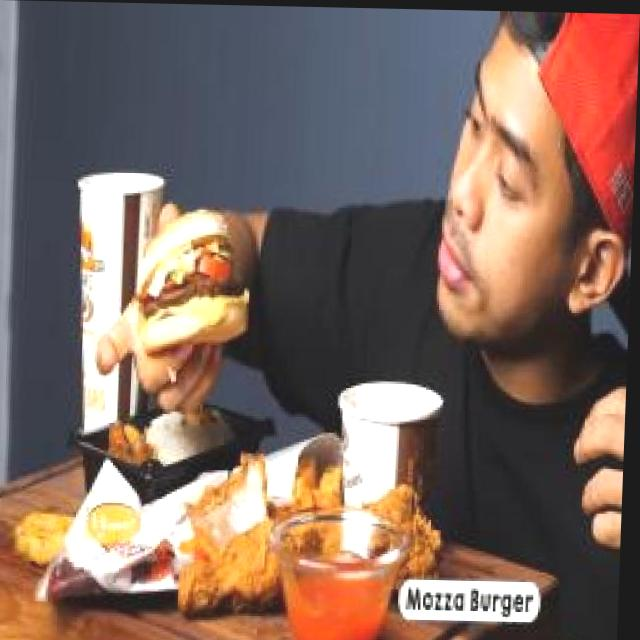AW cola: (67, 166, 170, 448)
black pepper rice bowl: (99, 385, 257, 493)
chicken waffle: (285, 415, 363, 517)
crispy corn: (335, 366, 455, 538)
fried chicken: (178, 458, 465, 598)
mozza burger: (129, 200, 267, 366)
perkedel: (8, 490, 109, 582)
